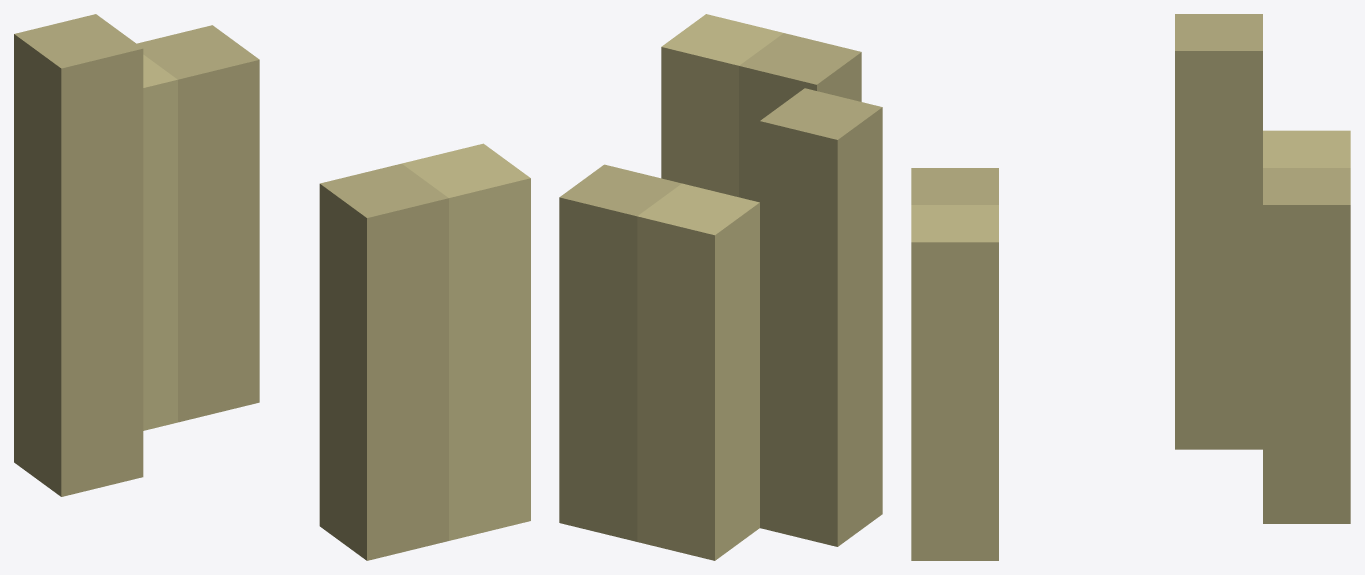
The model's file is hierba_de_estepa_04.glb.
3 views of the same model, side by side, from view 1: azimuth 30°, elevation 25°; view 2: azimuth 150°, elevation 25°; view 3: azimuth 270°, elevation 25° (orthographic). The views are drawn at different scales.
Visible parts, largest first — view 1: hierba_de_estepa_04; view 2: hierba_de_estepa_04; view 3: hierba_de_estepa_04.
Part boxes in pixels (x1,y1,x2,y2): hierba_de_estepa_04: (14,14,530,560); hierba_de_estepa_04: (559,14,882,560); hierba_de_estepa_04: (911,14,1350,560).
Size of the model in its own units: 0.4 by 0.5 by 0.5.
